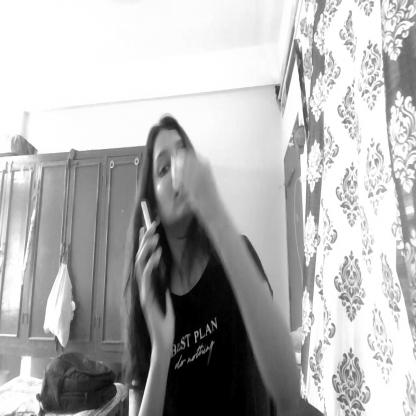Distracted: (148, 122, 193, 217)
